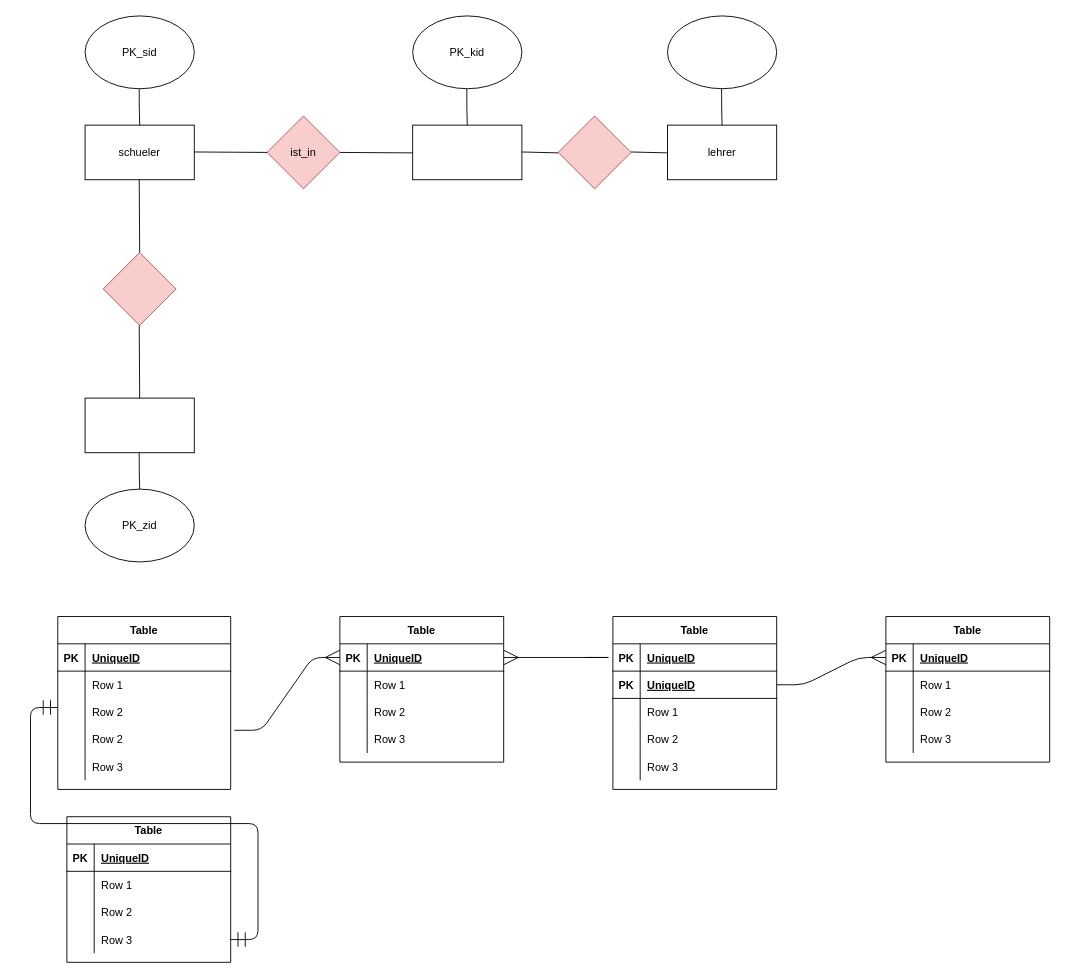
Some shapes in this 1066 by 978 pixel diagram are drawn without their labels. The centre of each missing label's shape, as x and y in pixels:
hat: [139,288]
klasse: [467,152]
PK_lid: [722,52]
unterrichtet: [594,152]
zeugnis: [139,425]
